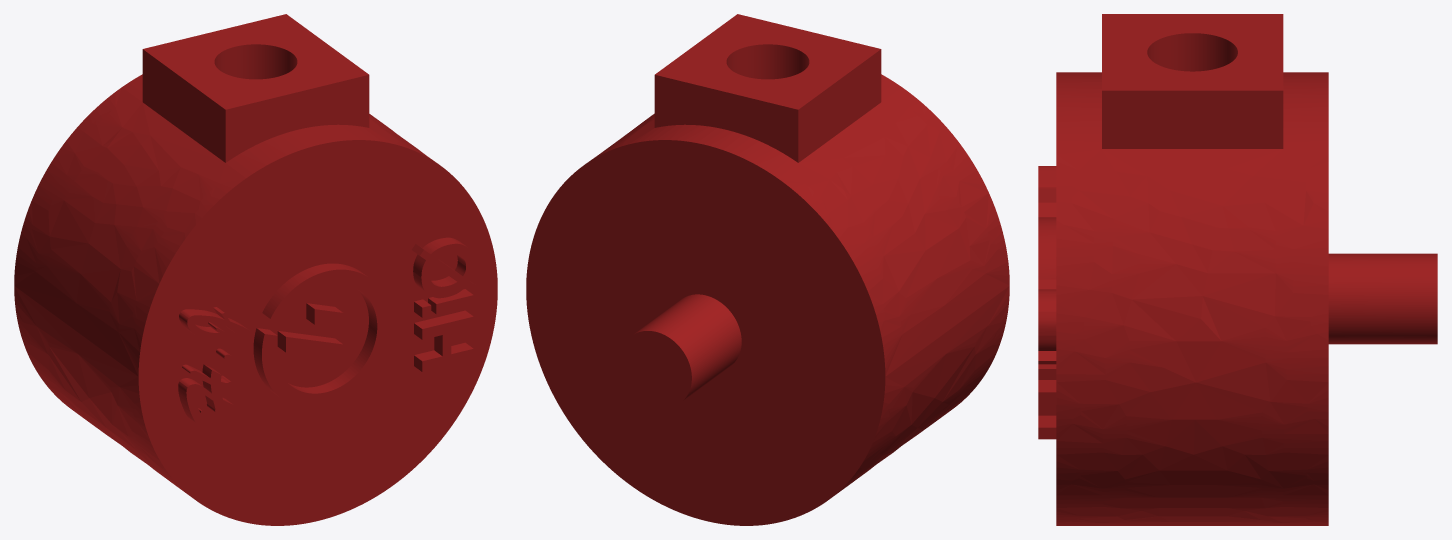
The model's file is joint1.dae.
3 views of the same model, side by side, from view 1: azimuth 30°, elevation 25°; view 2: azimuth 150°, elevation 25°; view 3: azimuth 270°, elevation 25° (orthographic). The views are drawn at different scales.
Parts seen in each view (by area): view 1: node0; view 2: node0; view 3: node0.
Boxes of the visible parts, left/top/right/bottom form: node0: left=14, top=14, right=497, bottom=525; node0: left=526, top=14, right=1009, bottom=525; node0: left=1038, top=14, right=1437, bottom=525.
Bounding box in the file's own units: 0.25 × 0.22 × 0.275.
